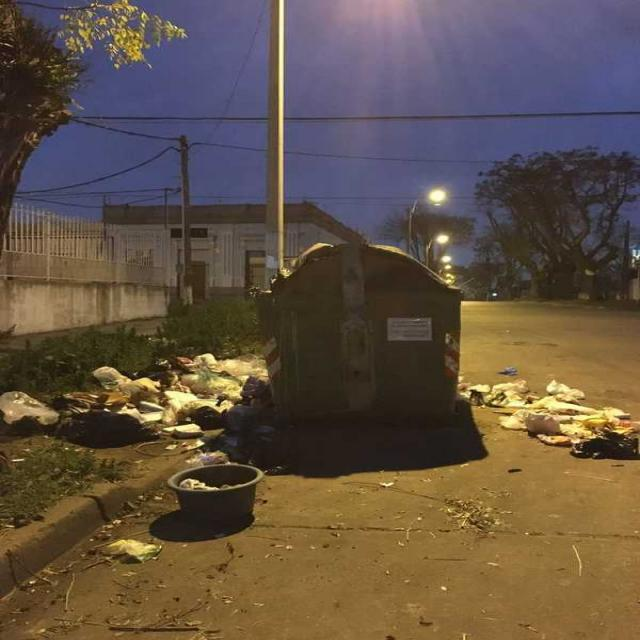garbage: (16, 330, 306, 562), (456, 356, 638, 482), (0, 375, 85, 433)
